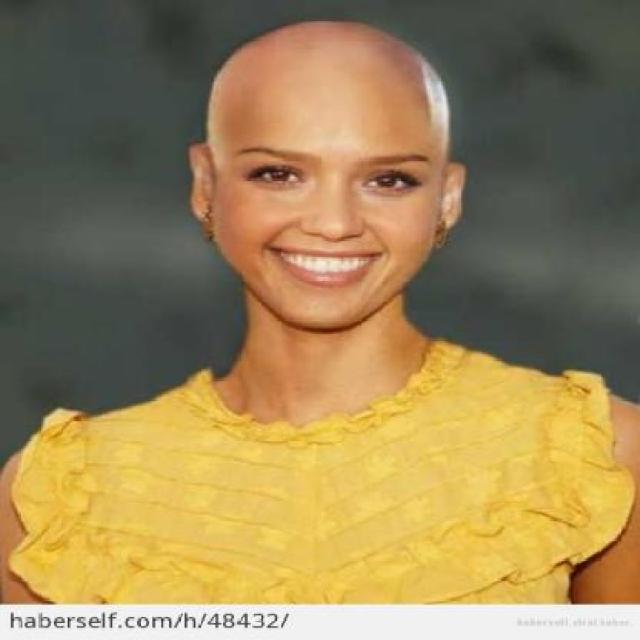no_helmet: (180, 6, 468, 203)
